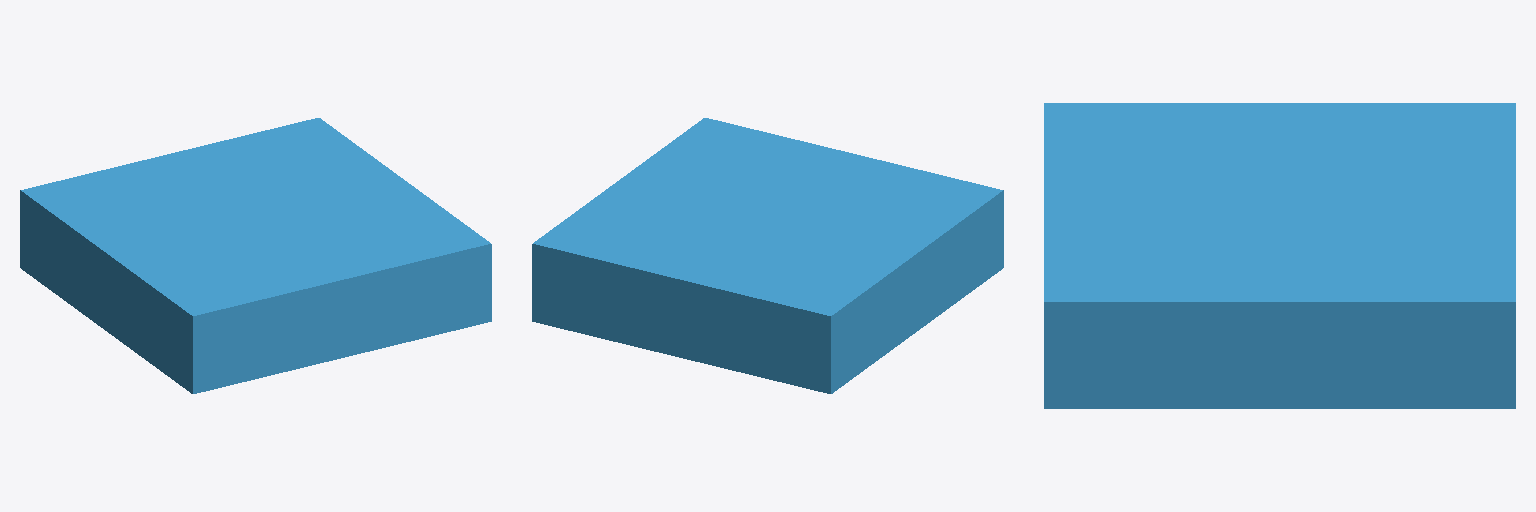
robot.urdf — camera1:
<?xml version="1.0"?>
<robot name="camera1">

  <link name="world"></link>

  <joint name="world_fixed" type="fixed">
    <parent link="world"/>
    <child link="camera_link"/>
  </joint>

    <!-- Camera -->
    <link name="camera_link">
        <collision>
            <origin xyz="0 0 0" rpy="0 0 0"/>
            <geometry>
        <box size="0.2 0.2 0.05"/>
            </geometry>
        </collision>

        <visual>
            <origin xyz="0 0 0" rpy="0 0 0"/>
            <geometry>
                <box size="0.2 0.2 0.05"/>
            </geometry>
            <material name="red"/>
        </visual>

        <inertial>
            <mass value="1e-5" />
            <origin xyz="0 0 0" rpy="0 0 0"/>
            <inertia ixx="1e-6" ixy="0" ixz="0" iyy="1e-6" iyz="0" izz="1e-6" />
        </inertial>
    </link>
    <!-- these values have to be these values otherwise the gazebo camera
    image won't be aligned properly with the frame it is supposedly
    originating from -->
    <joint name="camera_optical_joint" type="fixed">

        <origin xyz="0 0 0" rpy="-1.57 0 -1.57"/>
        <parent link="camera_link"/>
        <child link="camera_link_optical"/>
    </joint>

    <link name="camera_link_optical">
    </link>

 <!-- camera plugin -->
  <gazebo reference="camera_link">
    <sensor type="camera" name="camera1">
      <update_rate>15.0</update_rate>
      <camera name="head">
        <horizontal_fov>1.3962634</horizontal_fov>
        <image>
          <width>800</width>
          <height>800</height>
          <format>R8G8B8</format>
        </image>
        <clip>
          <near>0.02</near>
          <far>300</far>
        </clip>
        <noise>
          <type>gaussian</type>
          <!-- Noise is sampled independently per pixel on each frame.
               That pixel's noise value is added to each of its color
               channels, which at that point lie in the range [0,1]. -->
          <mean>0.0</mean>
          <stddev>0.007</stddev>
        </noise>
      </camera>
      <plugin name="camera_controller" filename="libgazebo_ros_camera.so">
        <alwaysOn>true</alwaysOn>
        <updateRate>0.0</updateRate>
        <cameraName>/camera1</cameraName>
        <imageTopicName>image_raw</imageTopicName>
        <cameraInfoTopicName>camera_info</cameraInfoTopicName>
        <frameName>camera_link</frameName>
        <hackBaseline>0.07</hackBaseline>
        <distortionK1>0.0</distortionK1>
        <distortionK2>0.0</distortionK2>
        <distortionK3>0.0</distortionK3>
        <distortionT1>0.0</distortionT1>
        <distortionT2>0.0</distortionT2>
      </plugin>
    </sensor>
  </gazebo>

</robot>

--- Render facts (derived) ---
The picture shows the robot from 3 angles, left to right: view 1: azimuth 30°, elevation 25°; view 2: azimuth 150°, elevation 25°; view 3: azimuth 270°, elevation 25°; orthographic projection.
Model camera1 with 3 links and 2 joints (2 fixed), rooted at world, posed all joints at 0.
Visible links, largest first — view 1: camera_link; view 2: camera_link; view 3: camera_link.
Boxes of the visible links, left/top/right/bottom form: camera_link: left=20, top=118, right=491, bottom=393; camera_link: left=532, top=118, right=1003, bottom=393; camera_link: left=1044, top=103, right=1515, bottom=408.
Size in the robot's own frame: 0.2 by 0.2 by 0.05 metres.
Geometry: primitives only (box / cylinder / sphere), no mesh files.